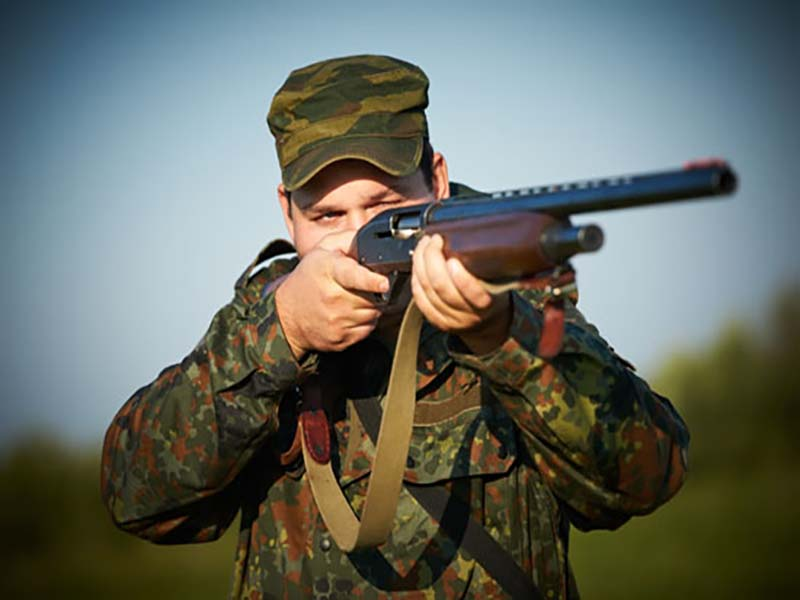cacciatore: (116, 51, 700, 598)
fucile: (300, 140, 759, 304)
